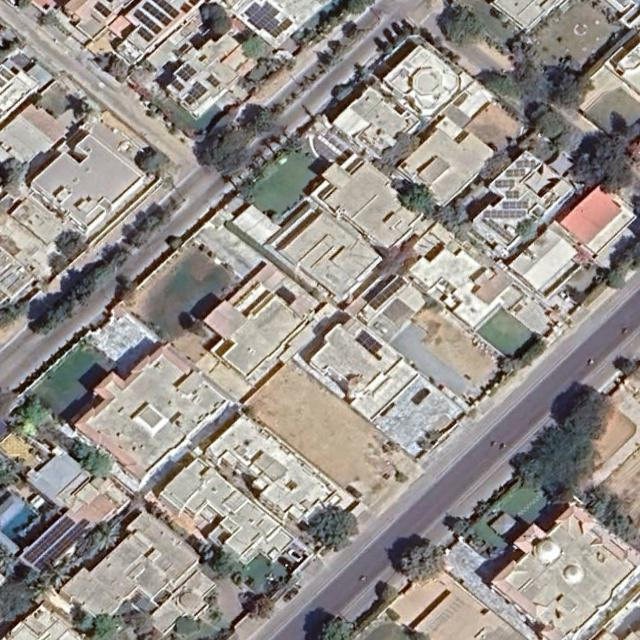solar panel: (34, 516, 91, 574), (22, 514, 77, 565), (242, 0, 293, 44), (369, 275, 407, 311), (355, 330, 389, 362), (482, 215, 515, 244), (132, 8, 162, 35), (142, 1, 172, 28), (181, 80, 208, 107), (150, 0, 180, 20), (176, 62, 197, 83), (483, 210, 525, 219), (93, 0, 112, 18), (138, 27, 154, 43), (503, 201, 528, 209), (171, 78, 185, 92), (516, 159, 536, 168), (207, 75, 220, 88), (507, 169, 525, 177), (180, 2, 192, 14), (496, 180, 515, 187), (506, 190, 519, 199)
